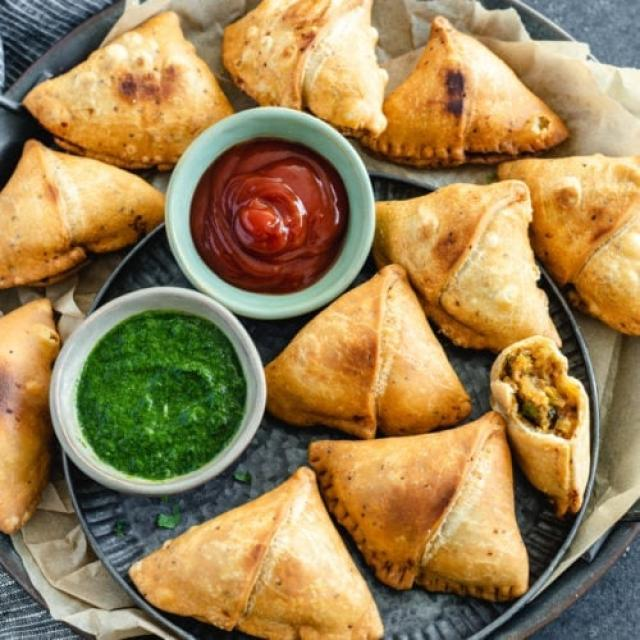SAMOSA: (131, 467, 383, 639), (310, 412, 527, 600), (265, 264, 470, 438), (26, 12, 233, 169), (356, 15, 567, 166), (372, 180, 558, 351), (498, 155, 639, 335), (0, 140, 163, 288), (223, 0, 385, 137), (490, 337, 588, 515), (0, 300, 60, 532)
